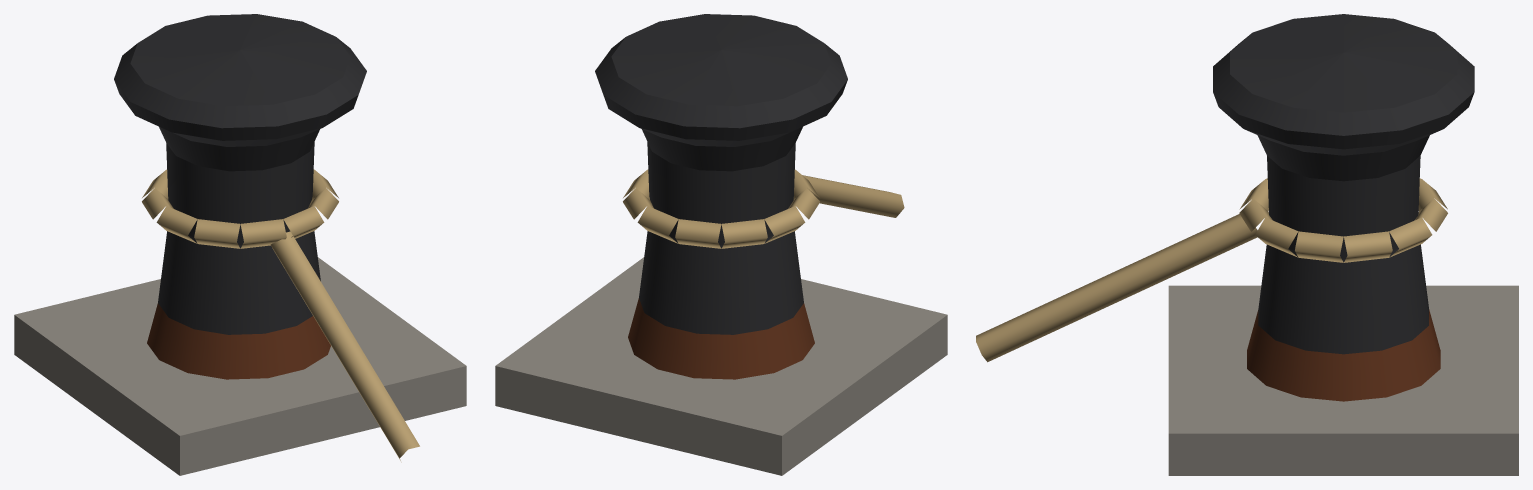
The model's file is bollard.glb.
The picture shows the model from 3 angles, left to right: view 1: azimuth 30°, elevation 25°; view 2: azimuth 150°, elevation 25°; view 3: azimuth 270°, elevation 25°; orthographic projection. The views are drawn at different scales.
Parts seen in each view (by area): view 1: Bollard; view 2: Bollard; view 3: Bollard.
Part boxes in pixels (left/top/right/bottom): Bollard: left=14, top=14, right=466, bottom=475; Bollard: left=495, top=14, right=947, bottom=475; Bollard: left=976, top=14, right=1518, bottom=475.
Bounding box in the file's own units: 0.6 × 0.66 × 0.9298.
1 material, 1 textured.
